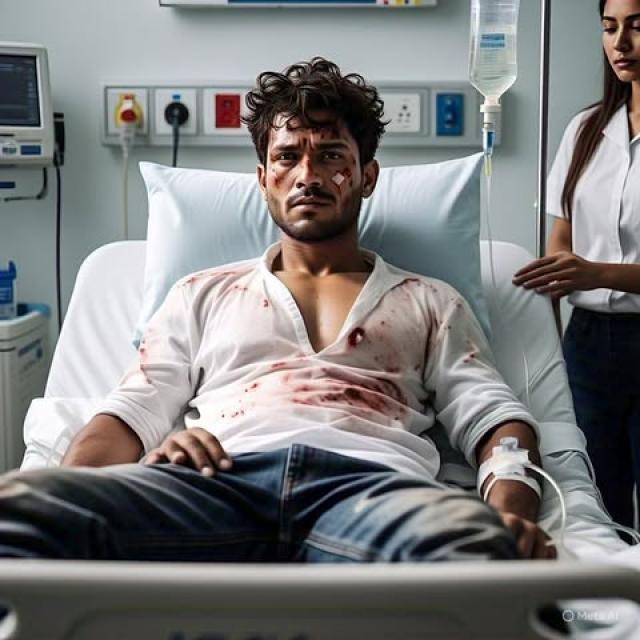injury: (243, 57, 387, 248), (301, 119, 345, 137), (333, 168, 359, 196), (265, 163, 287, 193)
